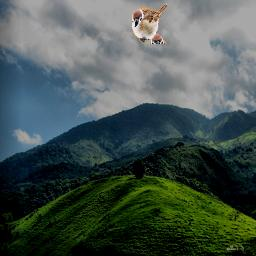Sparrow: (132, 4, 168, 44)
